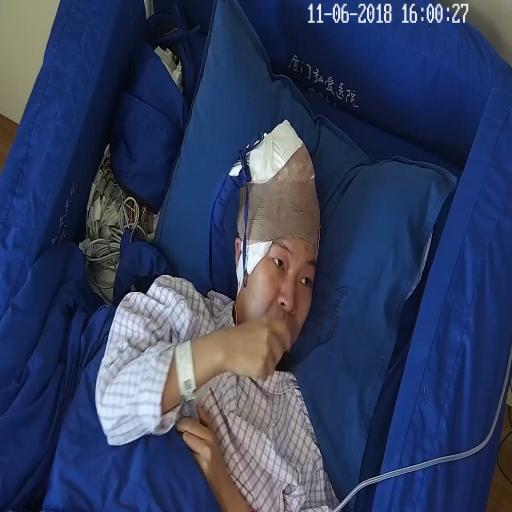Seizure: (228, 211, 323, 371)
